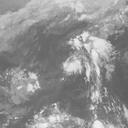cyclone: (57, 40, 103, 80)
